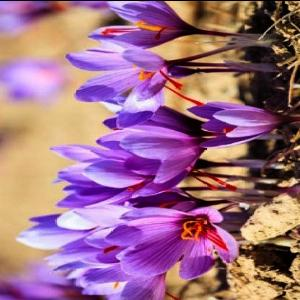Saffron: (102, 96, 206, 182), (127, 194, 233, 275), (72, 31, 182, 96), (100, 0, 221, 50), (194, 95, 289, 136)
